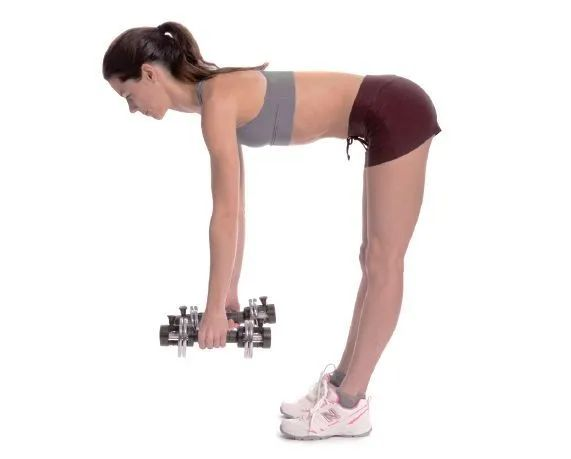bending: (79, 12, 447, 445)
